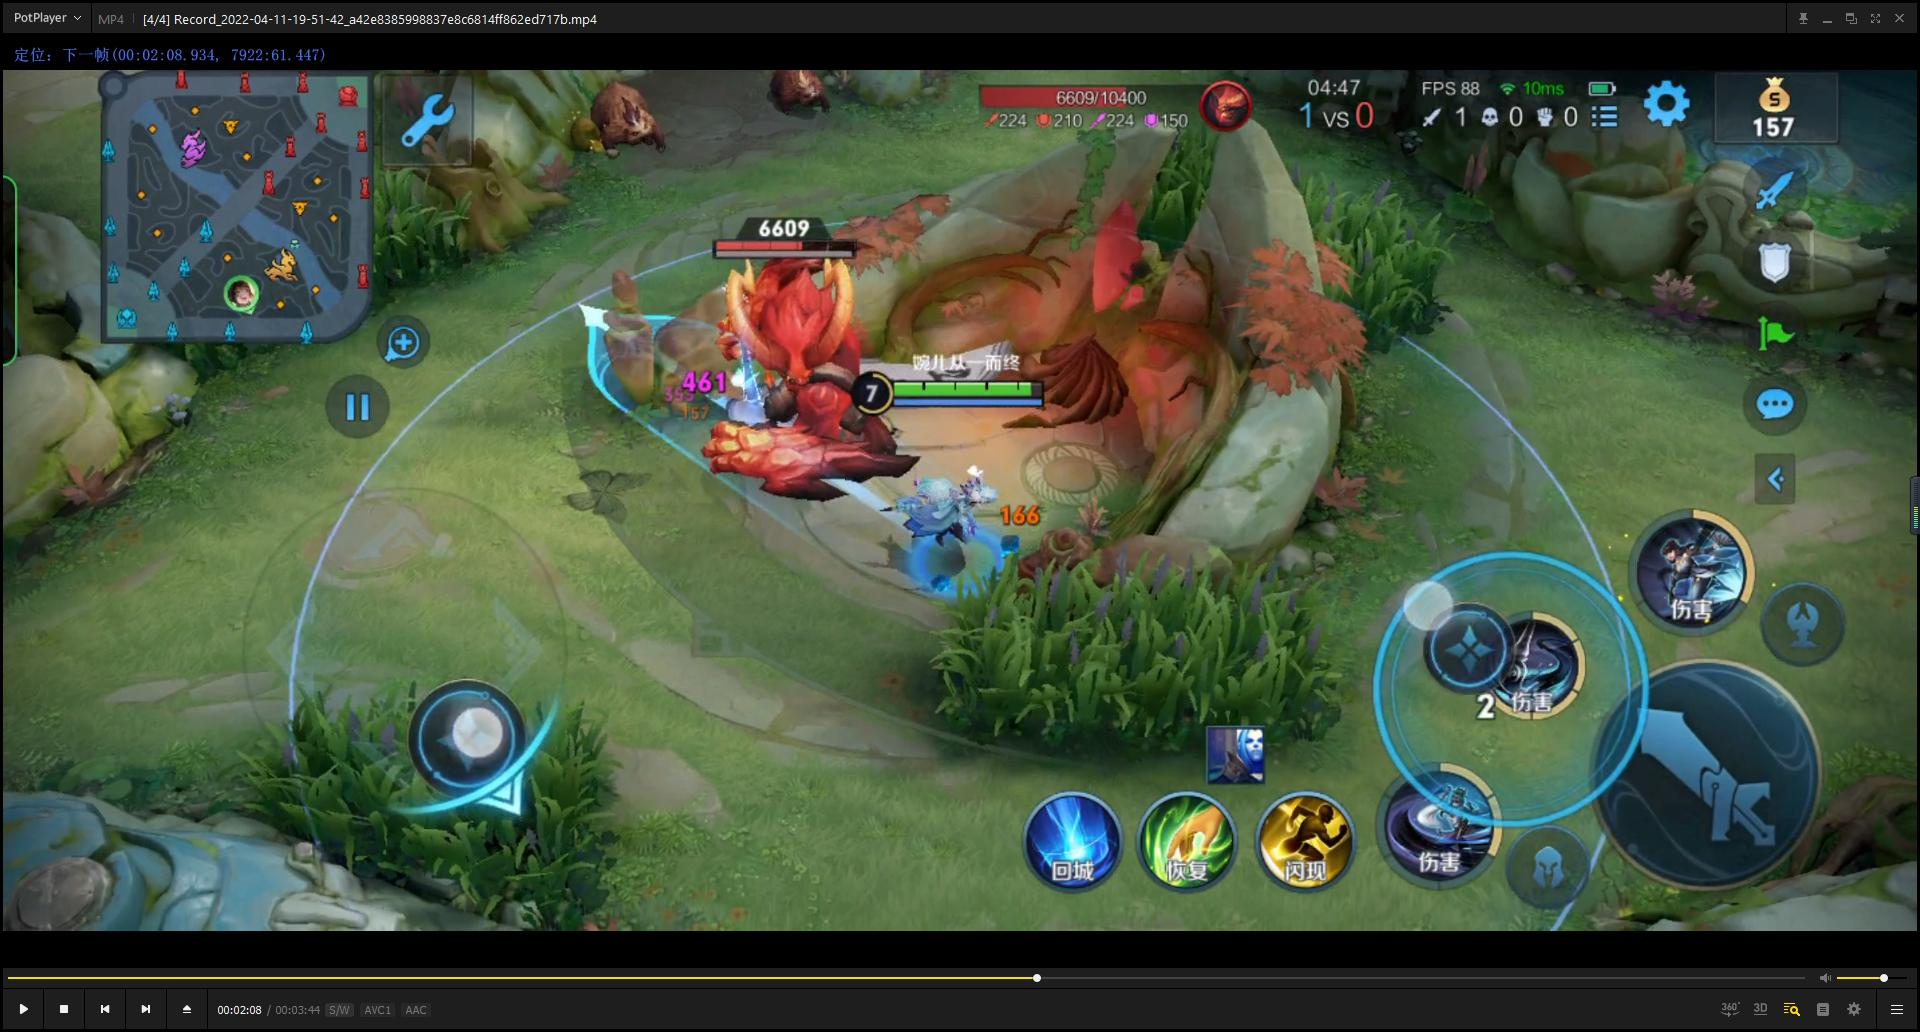Buff: (665, 216, 917, 503)
Hero: (884, 454, 1024, 573)
Pig: (569, 76, 695, 161), (756, 64, 828, 130)
